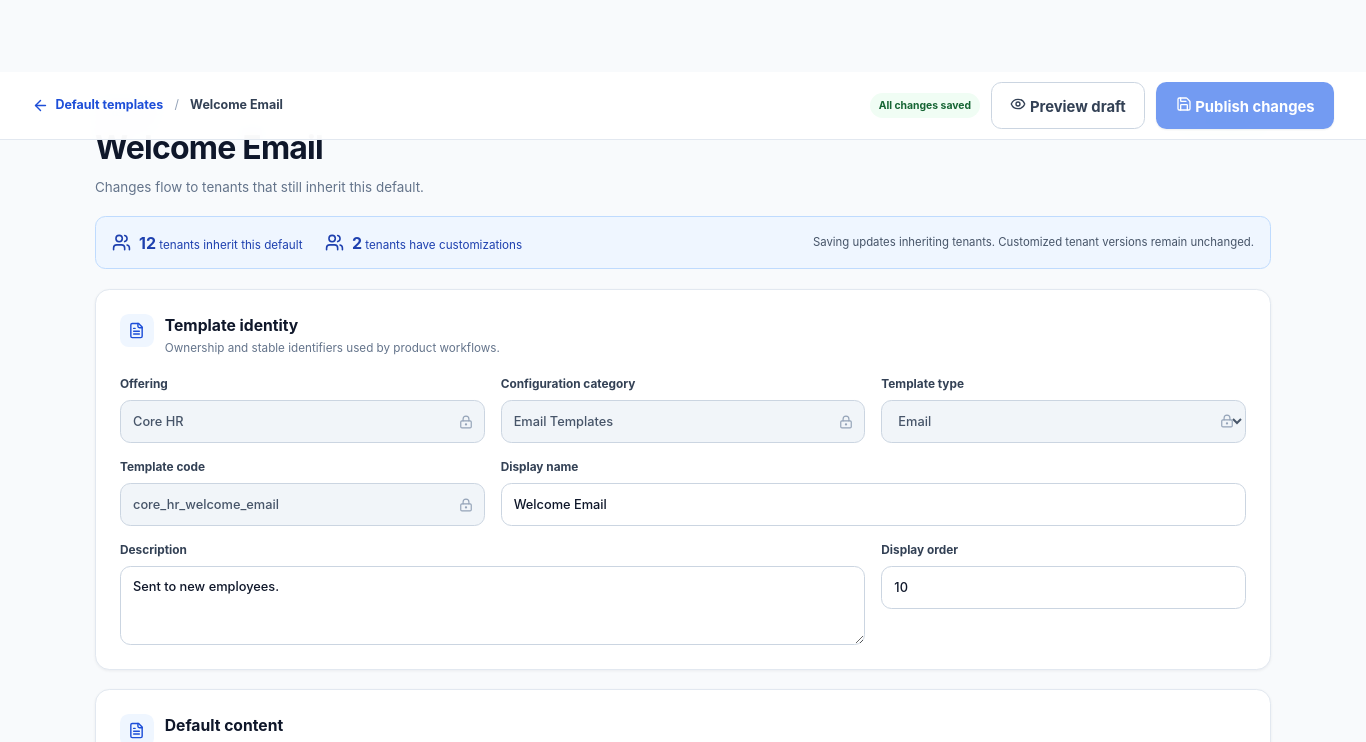
it: DefaultTemplateEditorPage › locks editor inputs while a publish request is in flight
Clear the field labelled "Display name" at (873, 504), box x1=501 y1=483 x2=1246 y2=526
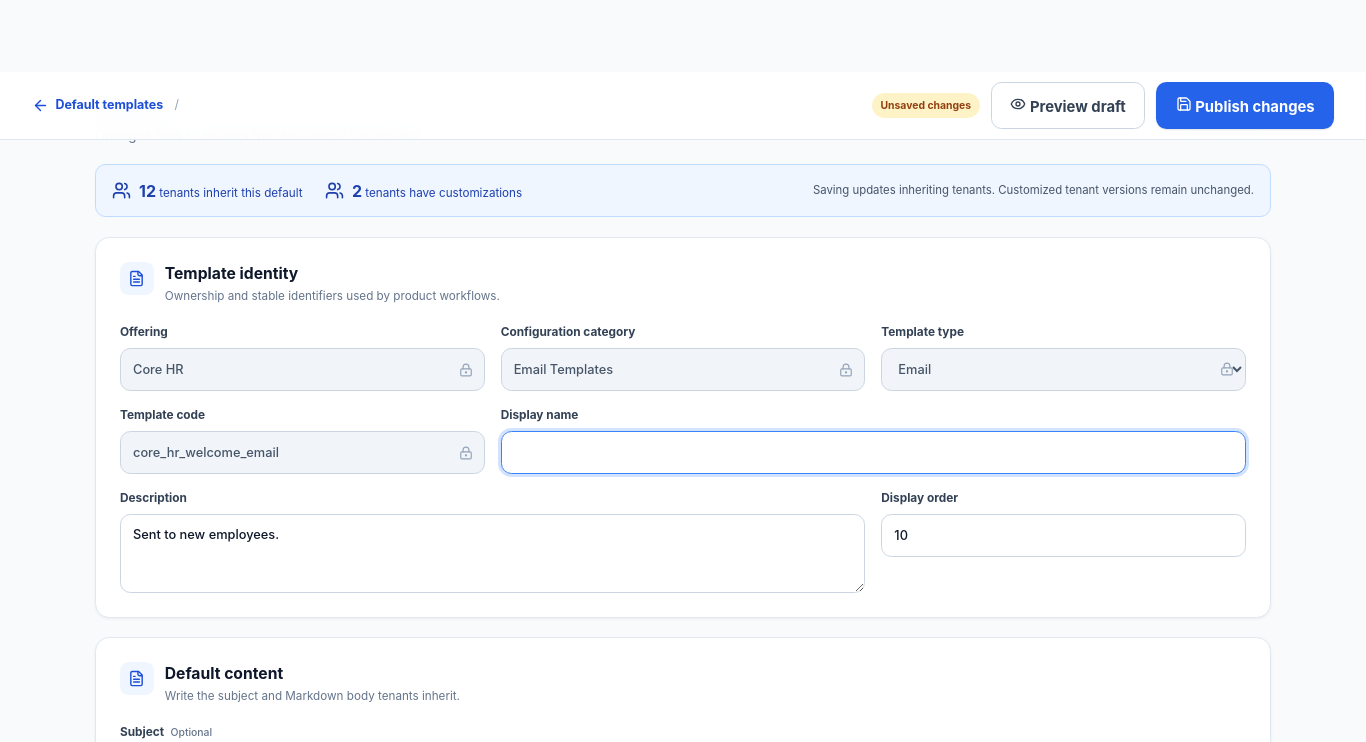
Type "Published Welcome" into the field labelled "Display name" at (873, 452), box x1=501 y1=431 x2=1246 y2=474
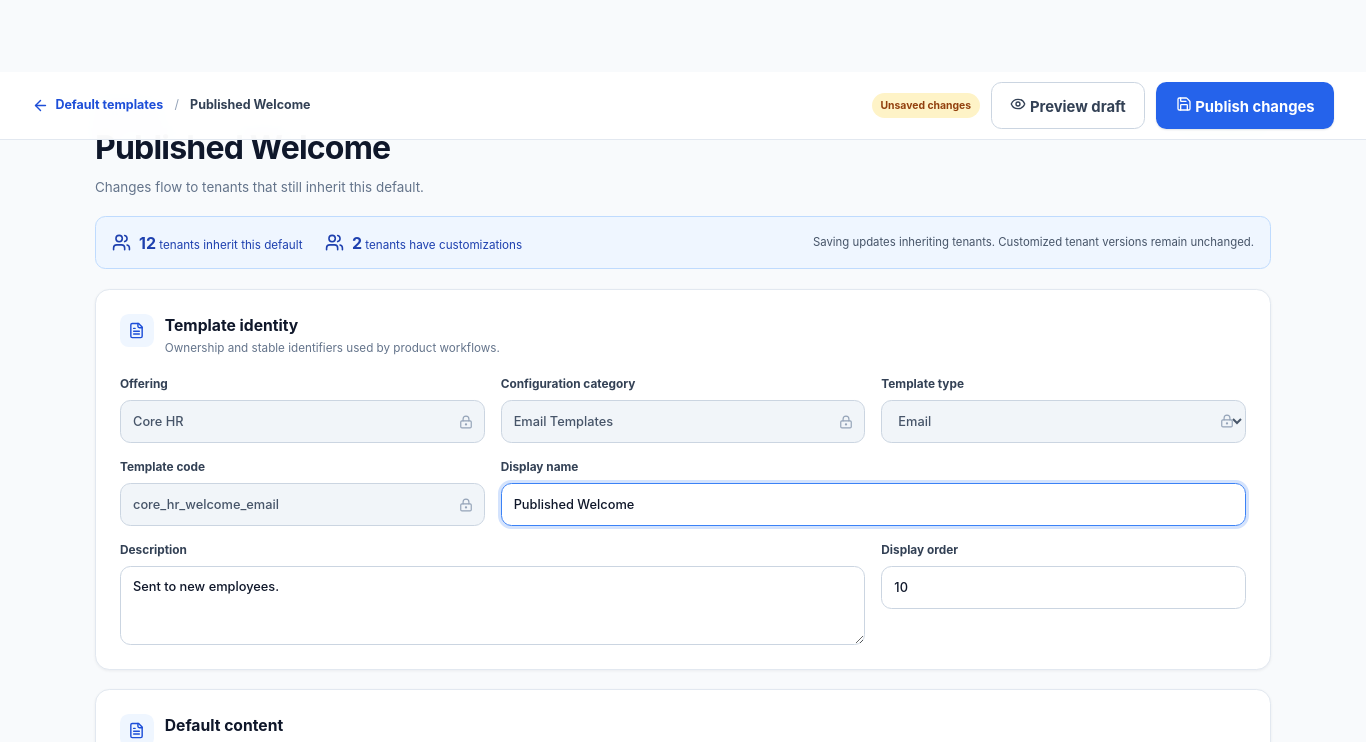
Click the button "Publish changes" at (1245, 106), box x1=1156 y1=82 x2=1334 y2=129
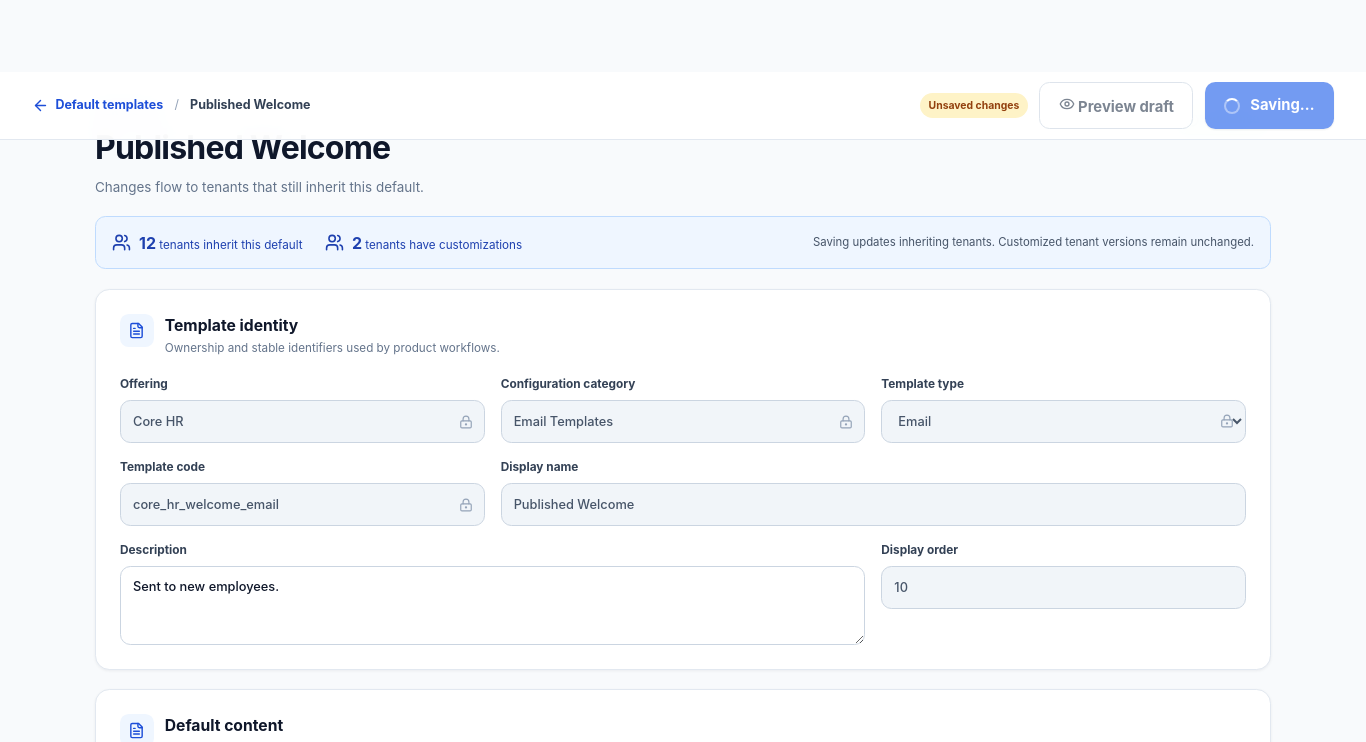
Type " should not be lost" into the field labelled "Display name" at (873, 504), box x1=501 y1=483 x2=1246 y2=526
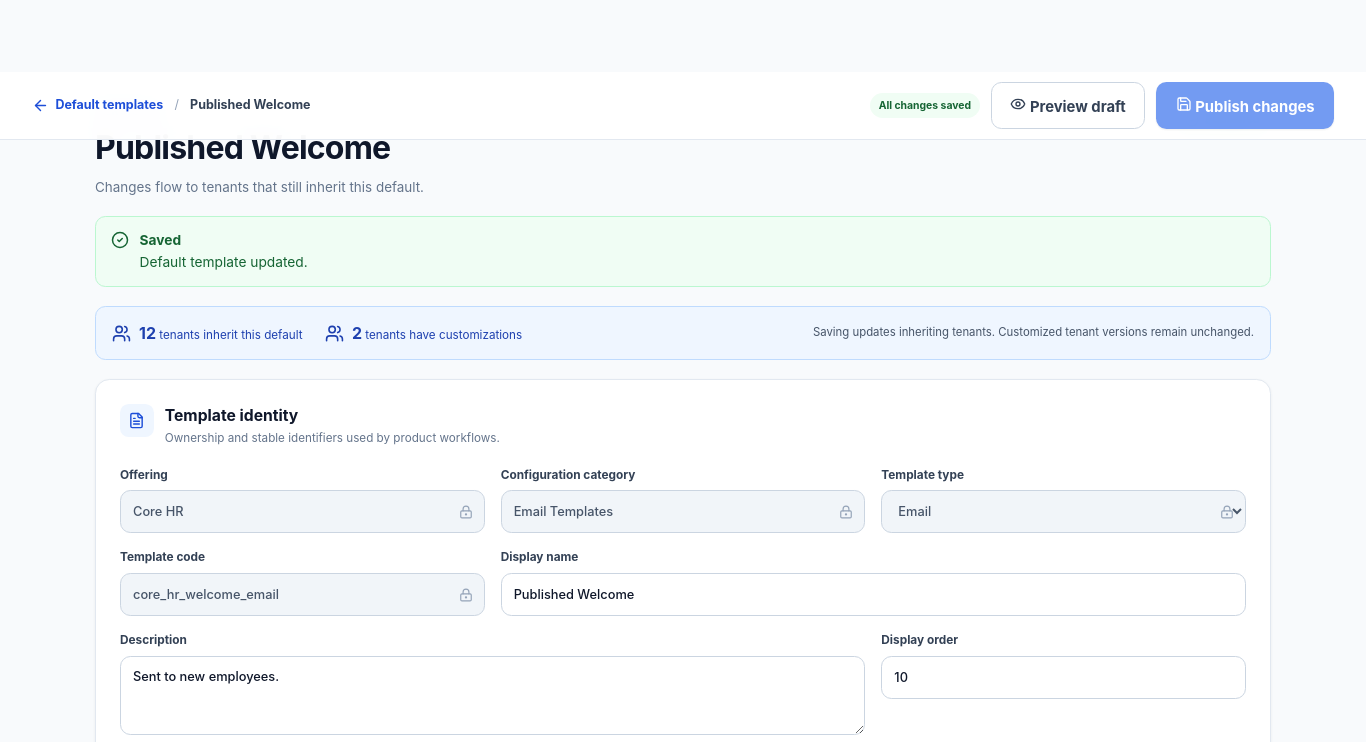
expect the text "Default template updated." is shown: met, box x1=140 y1=254 x2=308 y2=270
